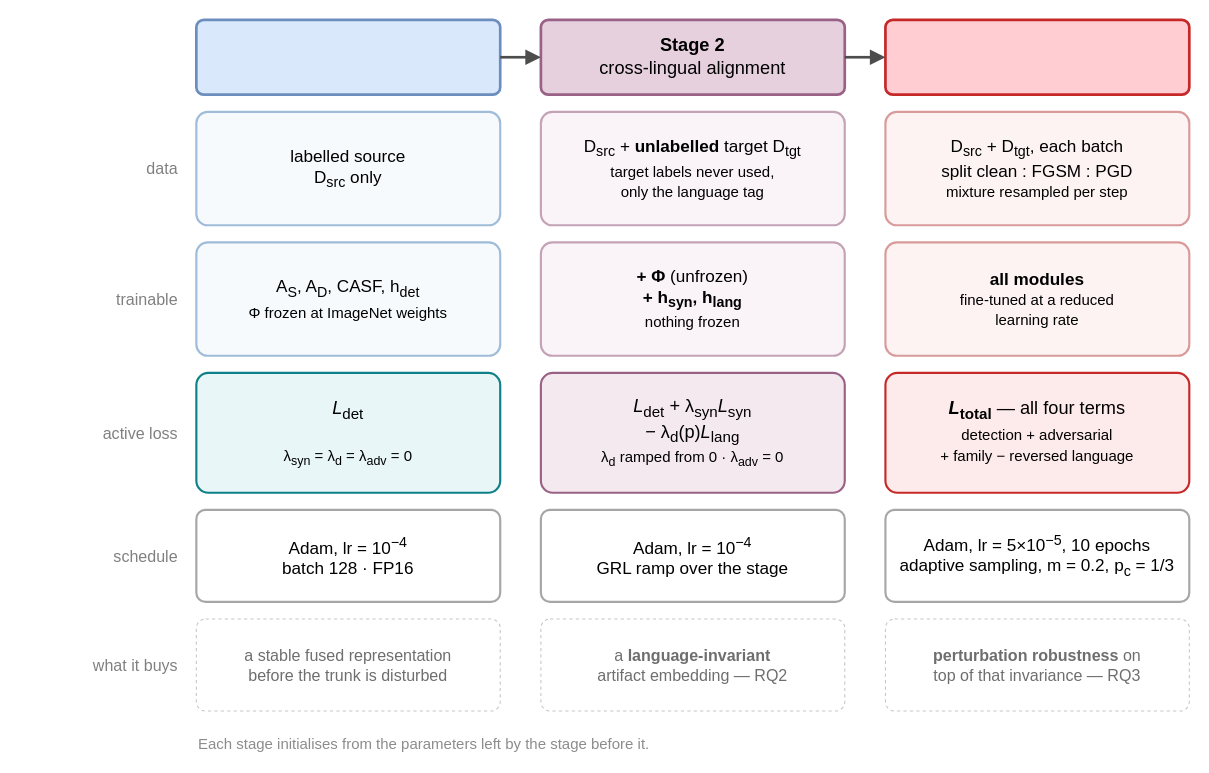
The diagram is 1209 pixels wide and 773 high, and some of its shapes have lost their labels. Each missing label, with the centre of its shape:
Stage 1 representation warm-up: the point at 348,57
Stage 3 dual-adversarial hardening: the point at 1037,57
